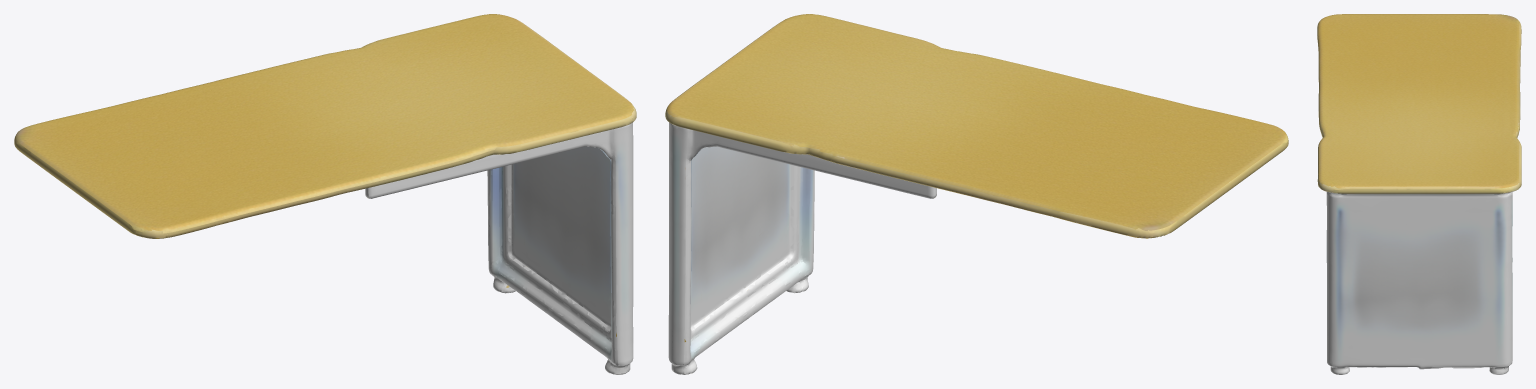
The model's file is table__table#3.glb.
3 views of the same model, side by side, from view 1: azimuth 30°, elevation 25°; view 2: azimuth 150°, elevation 25°; view 3: azimuth 270°, elevation 25° (orthographic). The views are drawn at different scales.
Visible parts, largest first — view 1: tmpado3qcwy.ply; view 2: tmpado3qcwy.ply; view 3: tmpado3qcwy.ply.
Part boxes in pixels (<box>): tmpado3qcwy.ply: <box>14,14,636,374</box>; tmpado3qcwy.ply: <box>665,14,1288,374</box>; tmpado3qcwy.ply: <box>1317,14,1521,374</box>.
Bounding box in the file's own units: 1.99 × 1.01 × 0.9836.
Materials: 1 (1 with a texture image).
